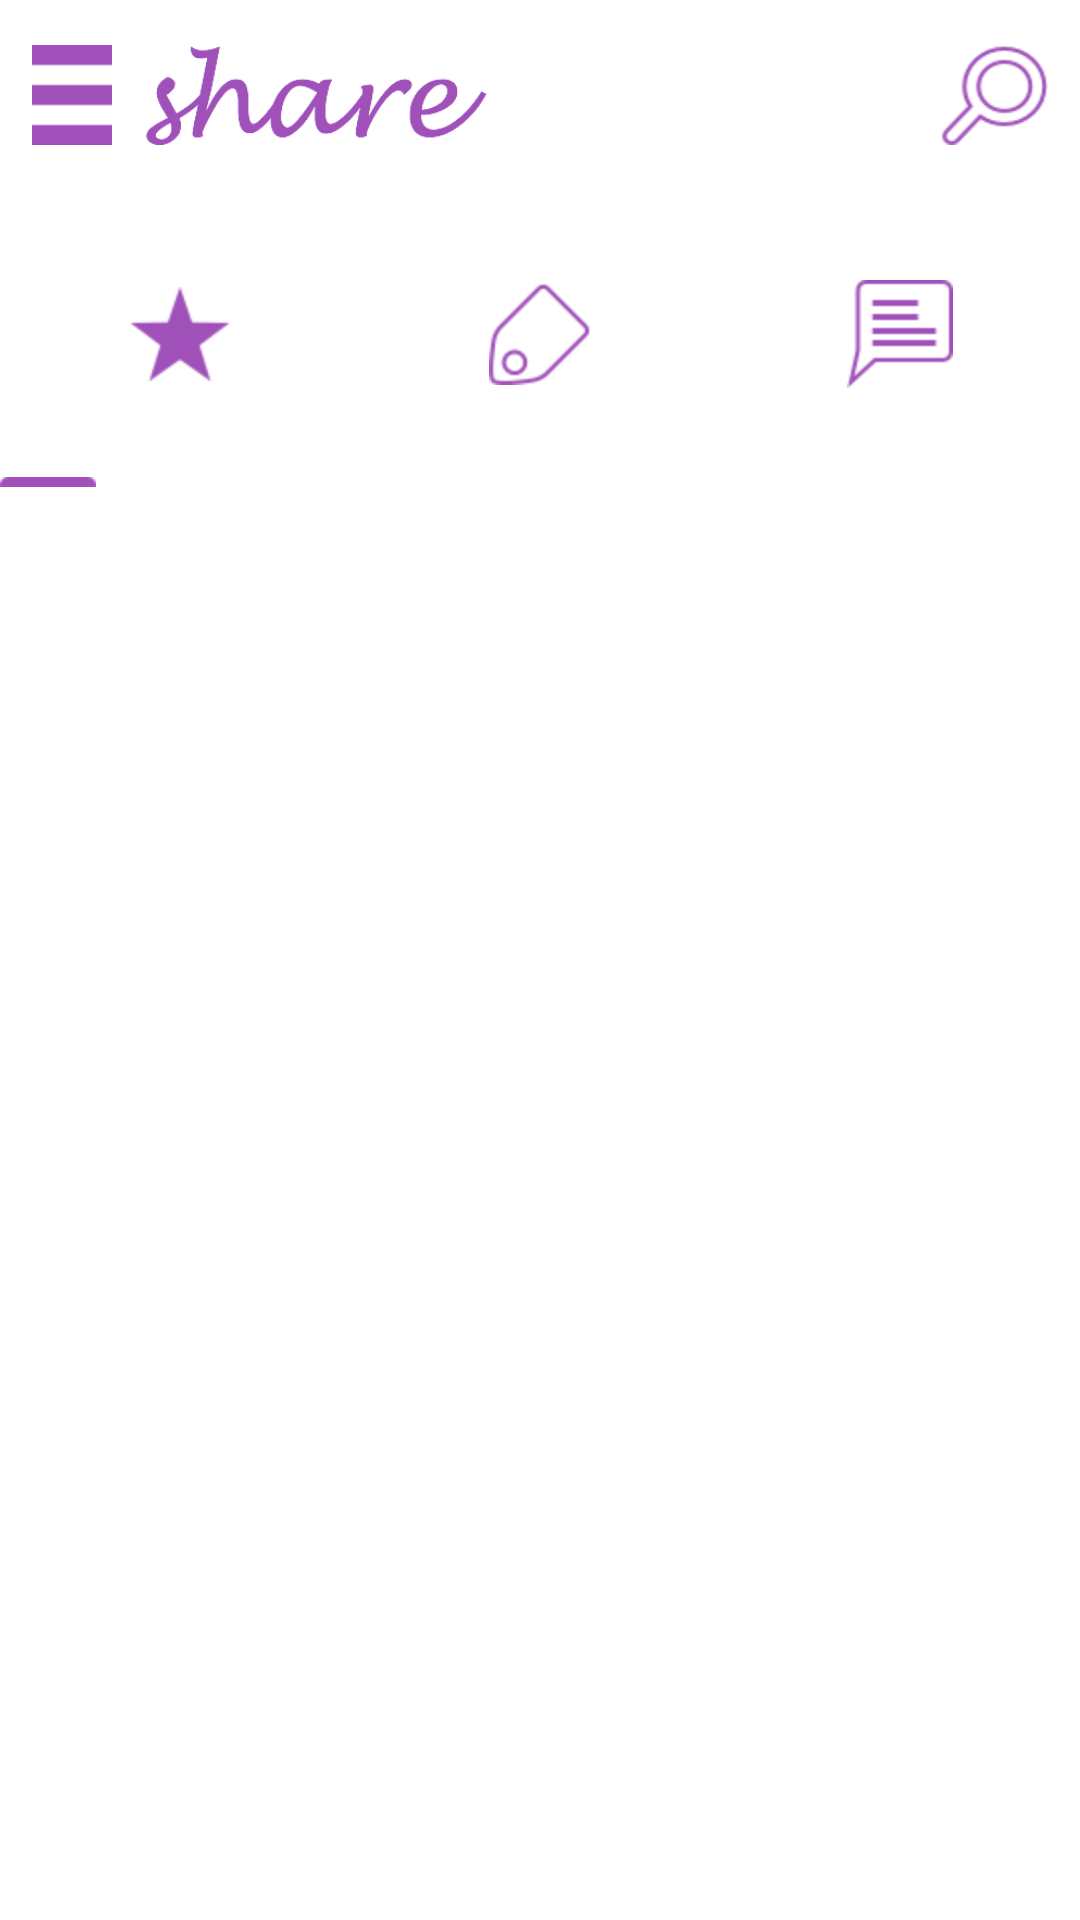

Icons on this 1080 x 1920 Android screen, each with the point to tap as (x,y):
classification unchecked: (539,334)
homepage checked: (180,334)
message unchecked: (900,334)
search bt: (995,95)
sidebar bt: (72,95)
